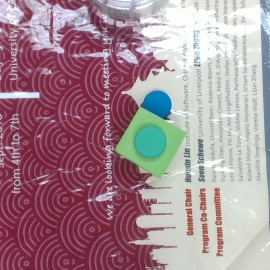blue: (142, 90, 172, 119)
green: (134, 126, 167, 160)
